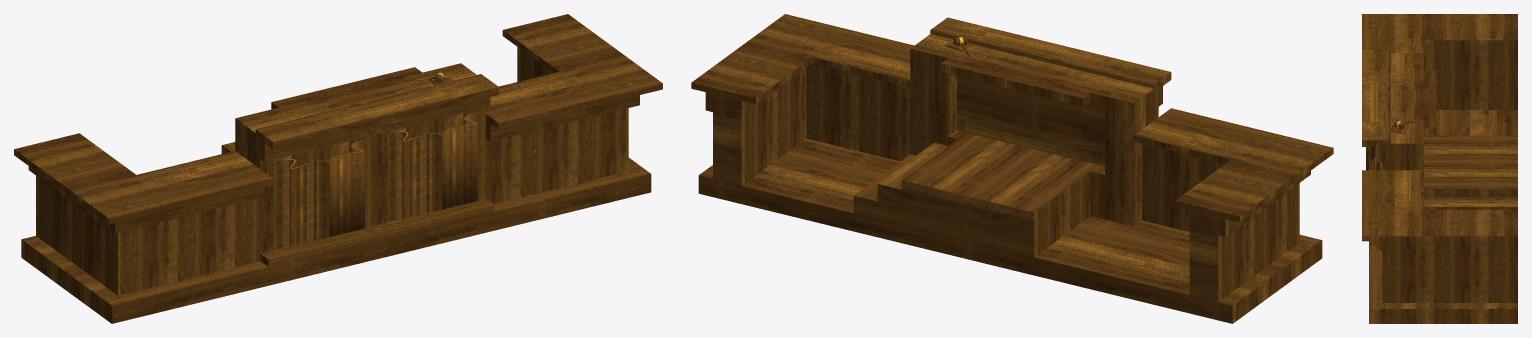
The model's file is courtroom_judge_desk.glb.
3 renders of one model, left to right at view 1: azimuth 30°, elevation 25°; view 2: azimuth 150°, elevation 25°; view 3: azimuth 270°, elevation 25°, orthographic. The views are drawn at different scales.
Parts seen in each view (by area): view 1: Material2; view 2: Material2; view 3: Material2.
Part boxes in pixels (left/top/right/bottom): Material2: left=14, top=14, right=662, bottom=323; Material2: left=691, top=14, right=1333, bottom=323; Material2: left=1362, top=14, right=1517, bottom=323.
Bounding box in the file's own units: 229 × 60.15 × 67.81.
6 materials, 4 textured.
